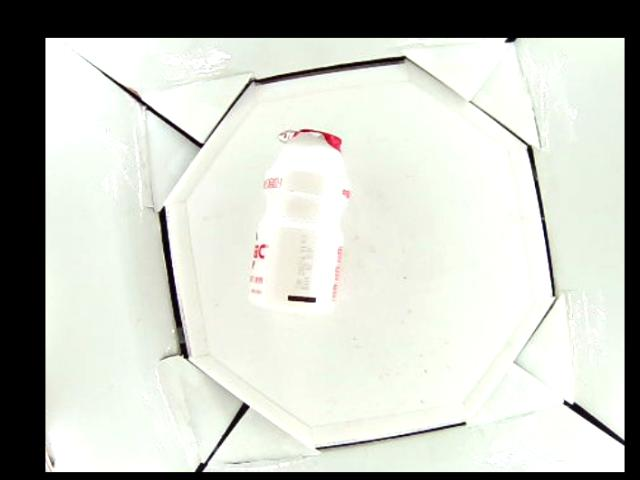Bottle: (249, 129, 350, 314)
